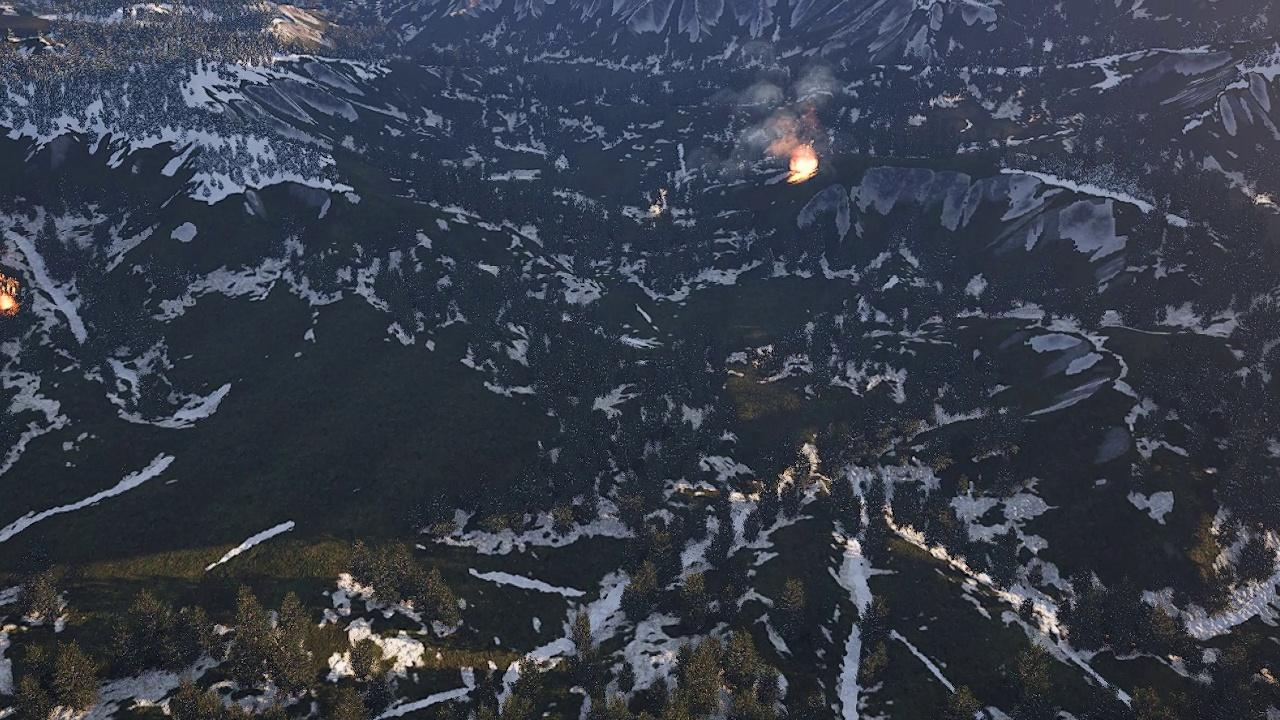fire: (787, 150, 817, 182), (0, 274, 20, 314)
smoke: (725, 54, 840, 159)
